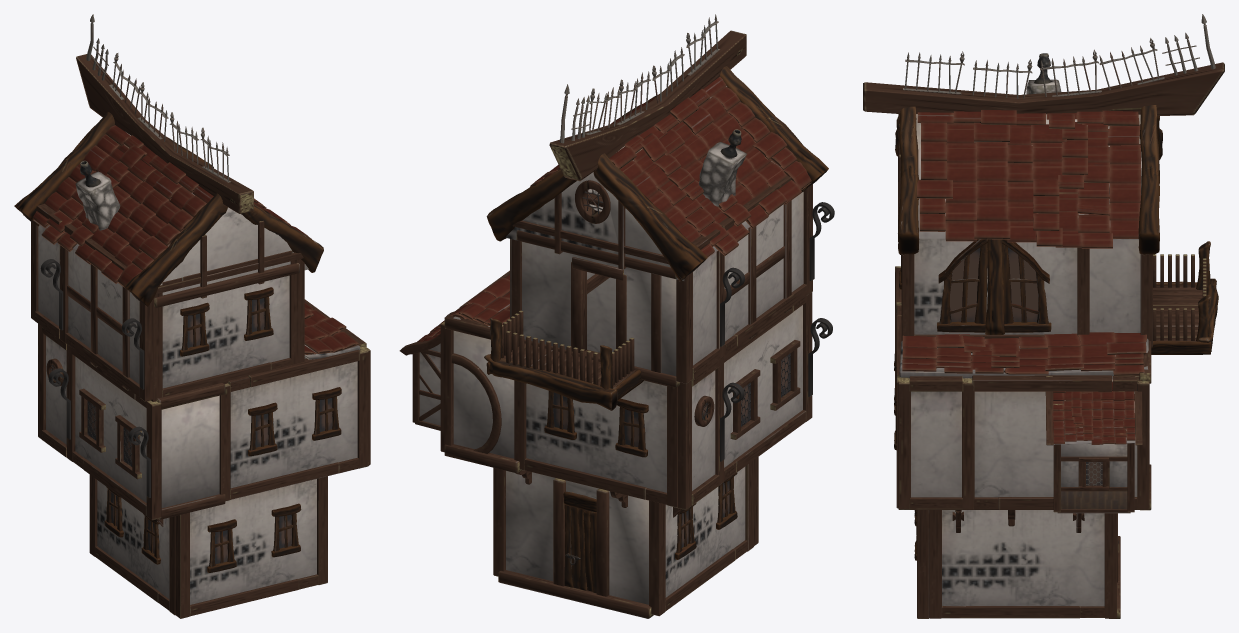
Rendered from House_V1_LOD.fbx.
3 views of the same model, side by side, from view 1: azimuth 30°, elevation 25°; view 2: azimuth 150°, elevation 25°; view 3: azimuth 270°, elevation 25° (orthographic). The views are drawn at different scales.
Parts seen in each view (by area): view 1: House_V1_LOD0; view 2: House_V1_LOD0; view 3: House_V1_LOD0.
Part boxes in pixels (x1,y1,x2,y2): House_V1_LOD0: [14, 14, 370, 618]; House_V1_LOD0: [399, 14, 834, 618]; House_V1_LOD0: [863, 14, 1224, 618].
Size of what is drawn, in the model's own units: 900 by 1518 by 902.
